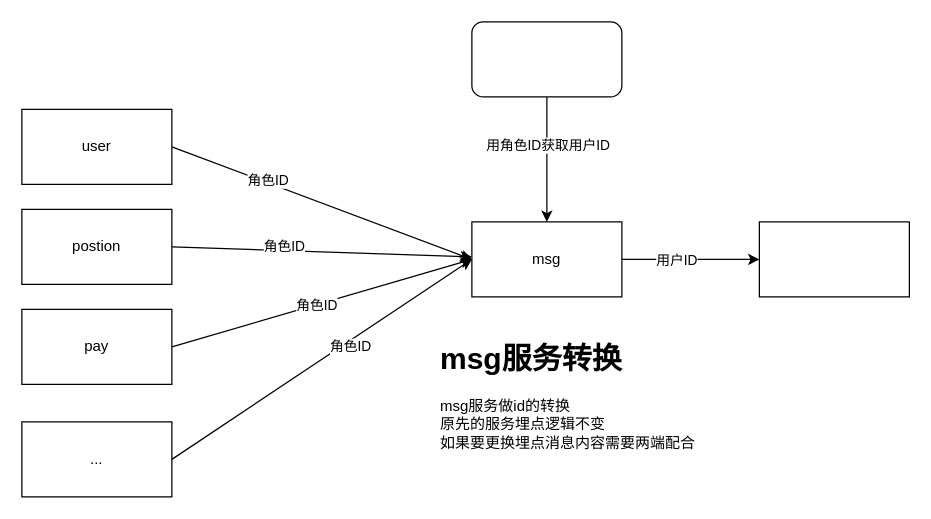
Image size: 931x519. Some labels were removed from this diagram. Here are the shapes that lost their labels. From the top down, the box of each, then its label:
(471, 21, 622, 97): 用户ID 角色ID 缓存在Redis
(758, 221, 909, 297): push
